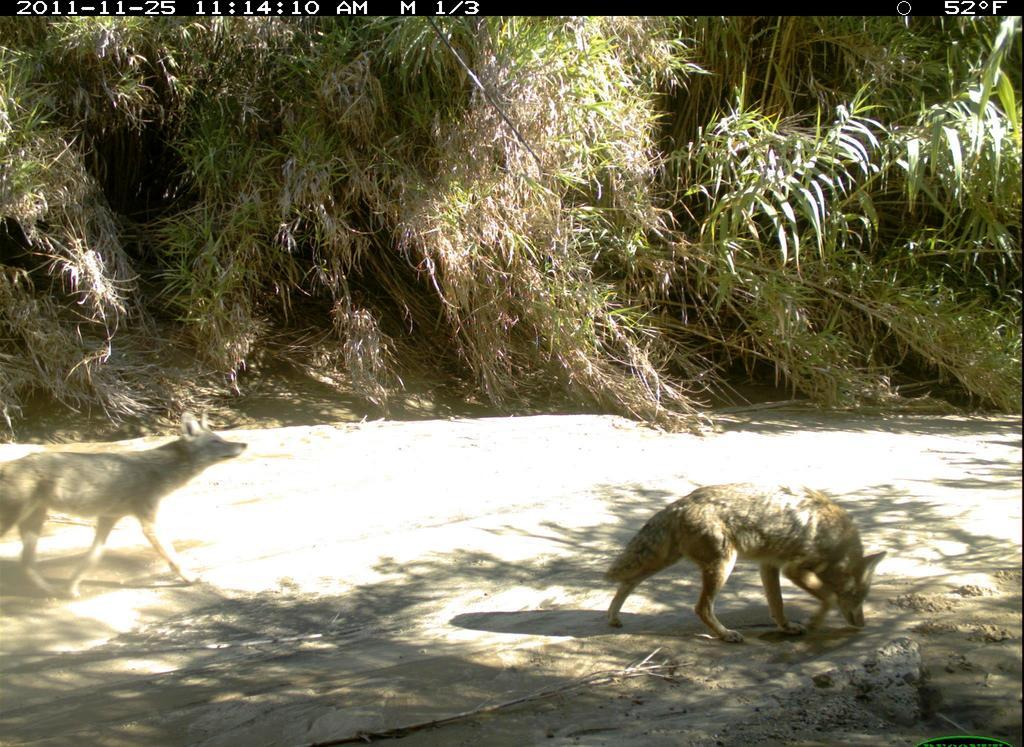coyote: (597, 469, 893, 651), (6, 410, 253, 609)
